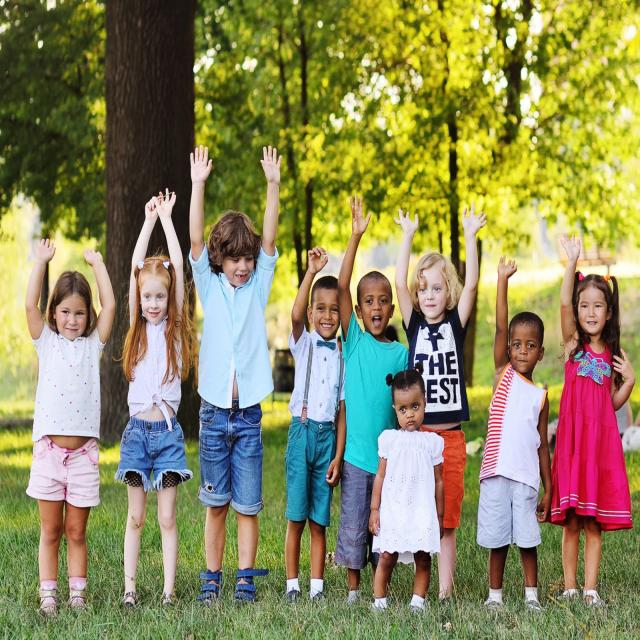child: (188, 143, 282, 608), (391, 200, 485, 601), (23, 238, 116, 614), (553, 232, 637, 604), (337, 193, 409, 601), (118, 188, 186, 612), (476, 252, 553, 614), (285, 245, 345, 602), (368, 366, 444, 616)
